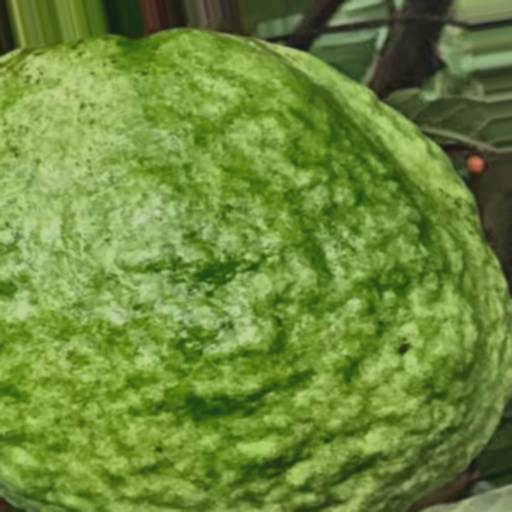guava: (118, 38, 445, 401)
